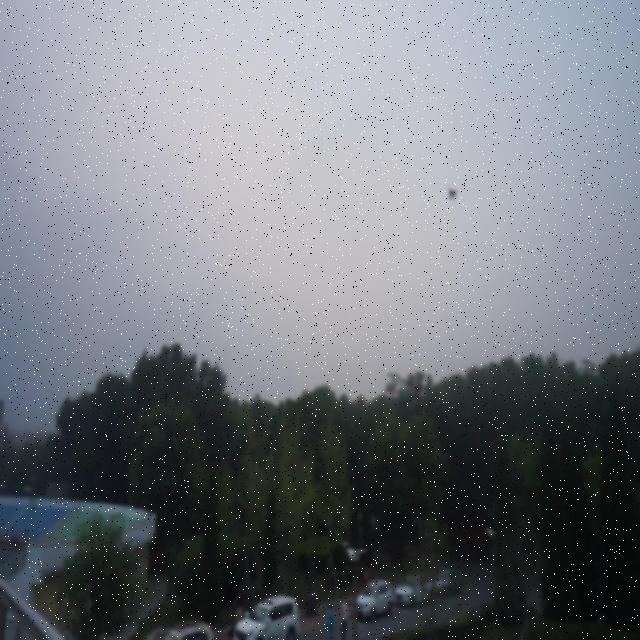UAV: (447, 186, 458, 202)
